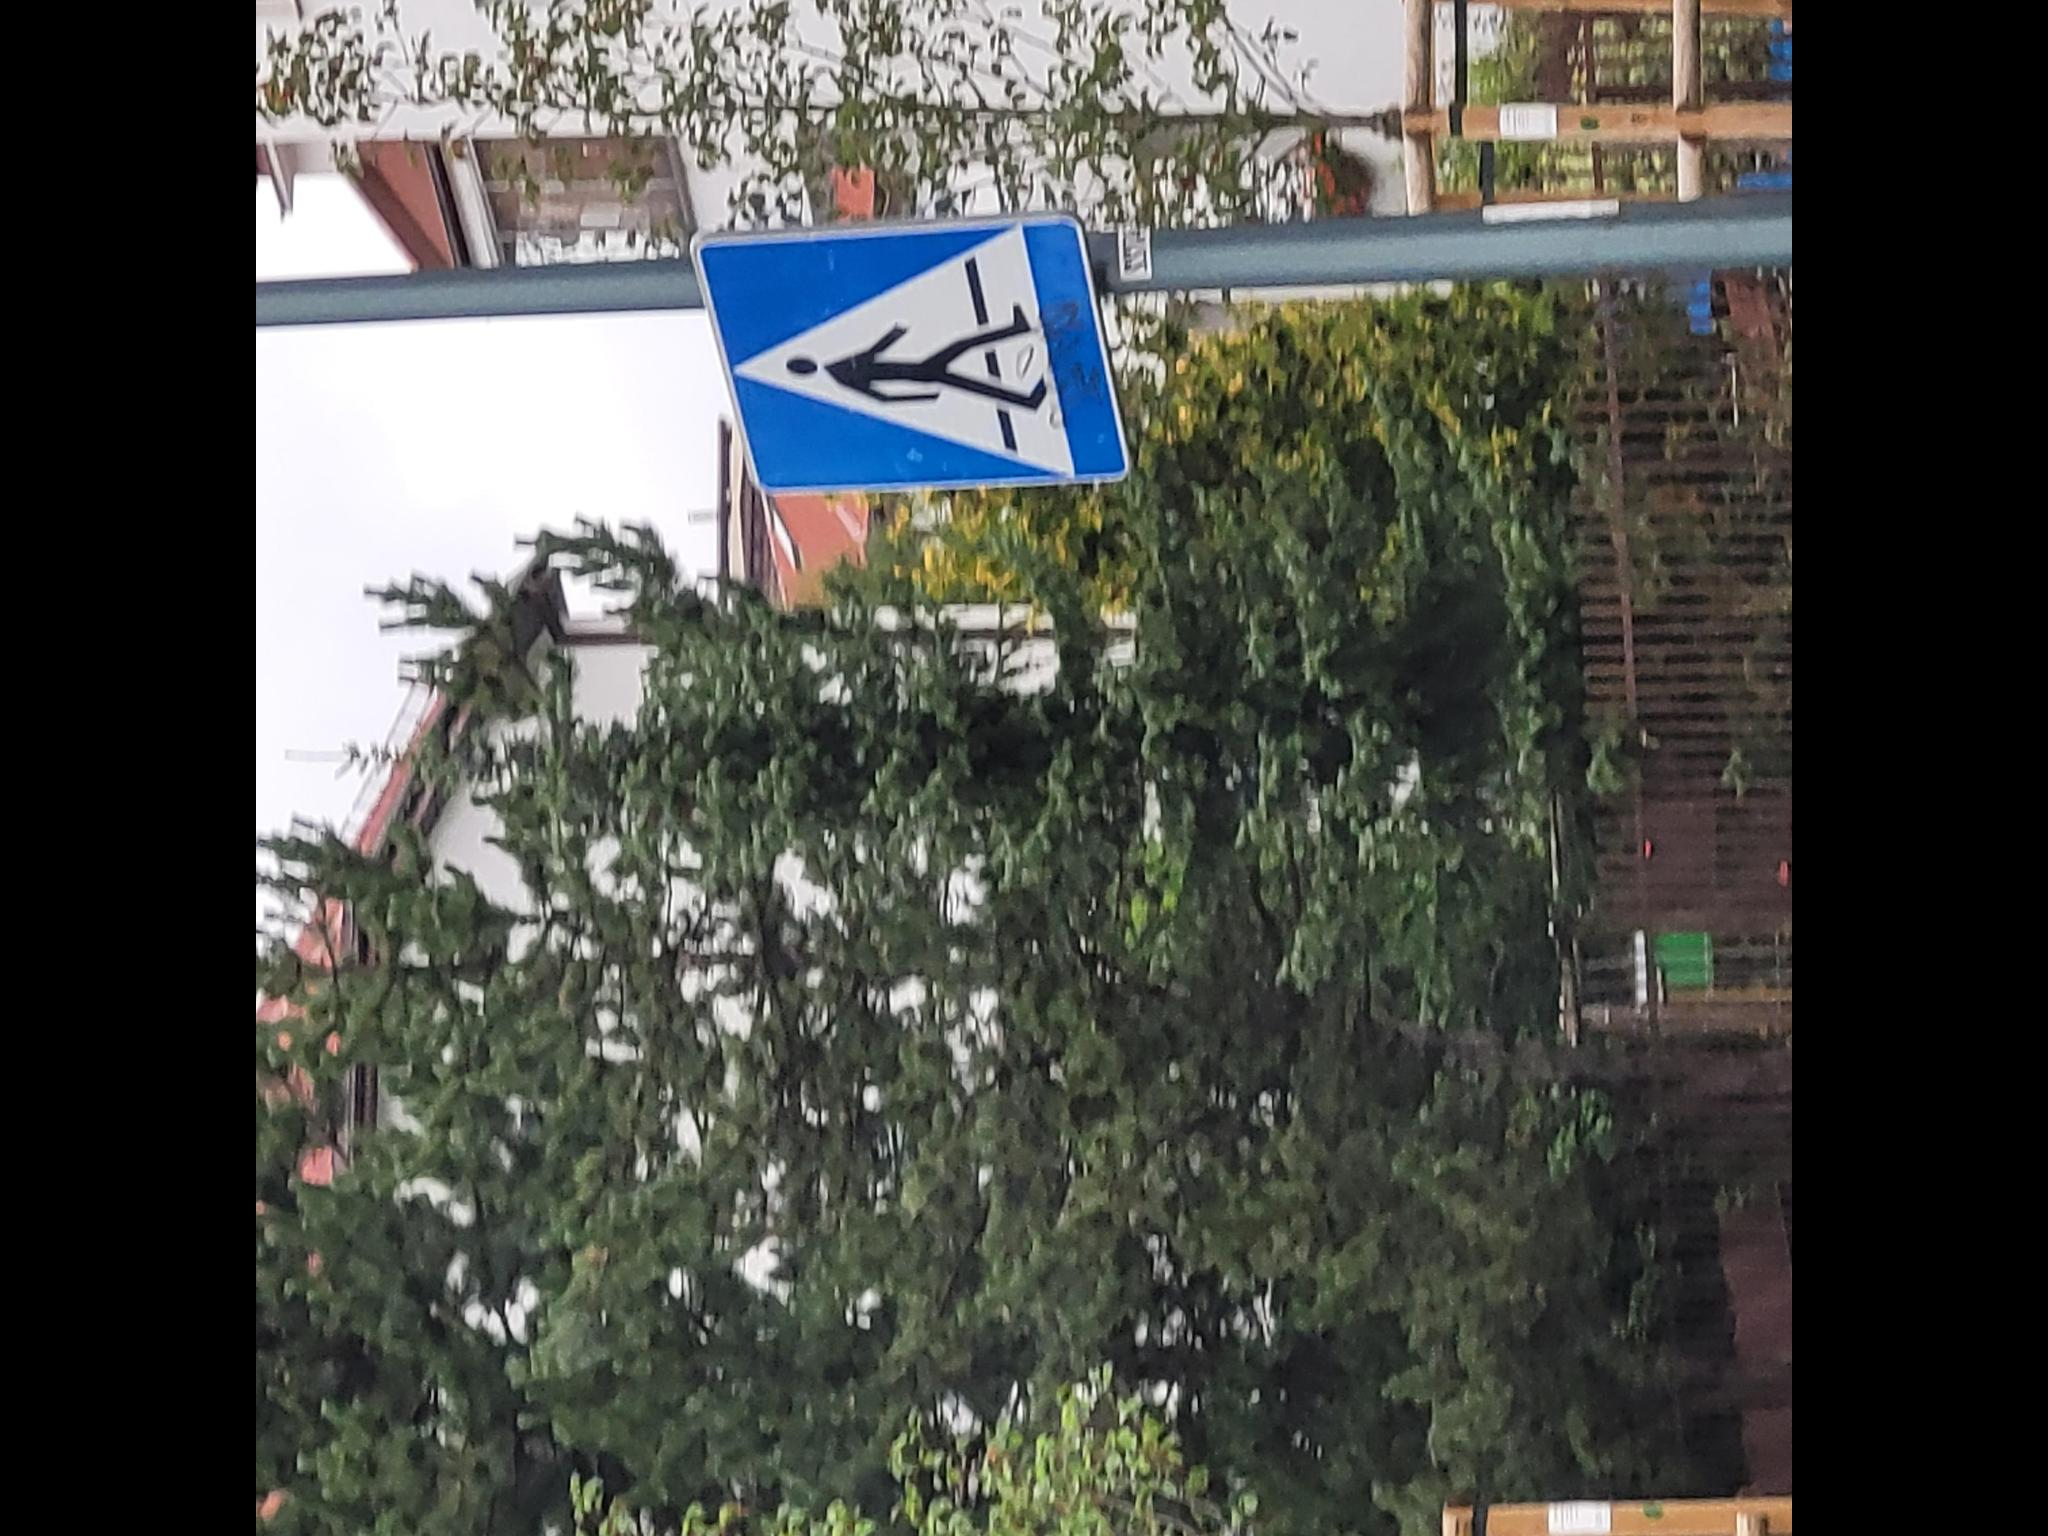information: (689, 210, 1134, 494)
